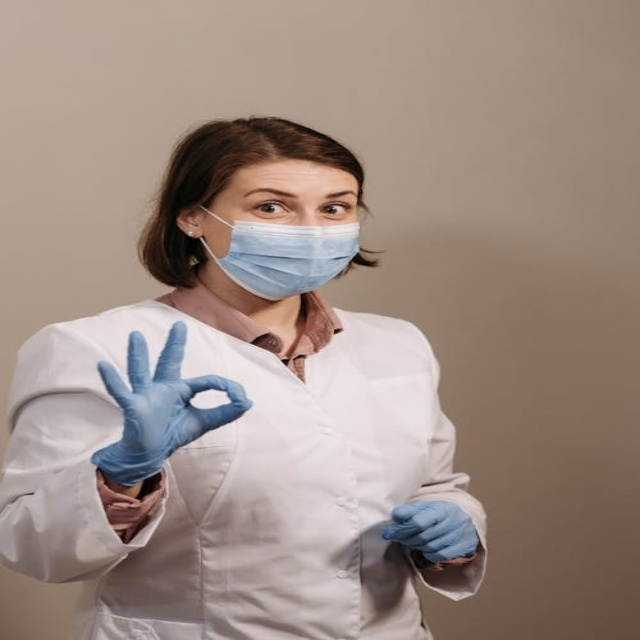Guantes: (92, 320, 255, 486), (381, 500, 478, 566)
Mascara: (196, 203, 360, 299)
Sin_gafas: (233, 184, 355, 220)
